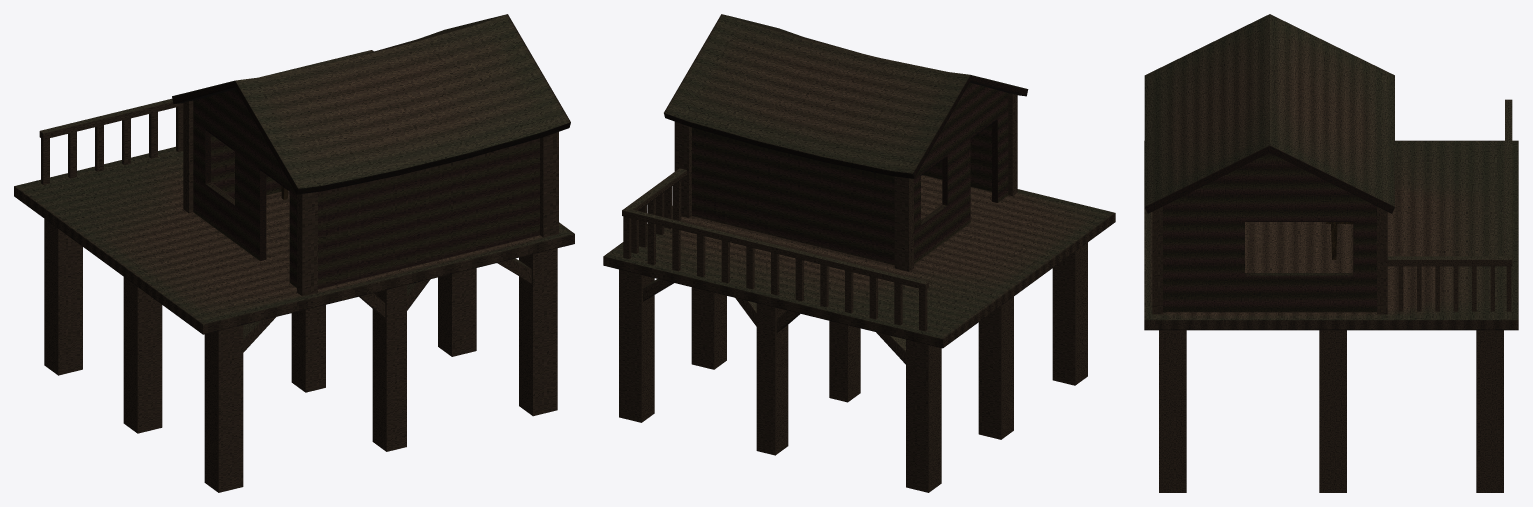
The model's file is cabin.glb.
3 renders of one model, left to right at view 1: azimuth 30°, elevation 25°; view 2: azimuth 150°, elevation 25°; view 3: azimuth 270°, elevation 25°, orthographic. The views are drawn at different scales.
Parts seen in each view (by area): view 1: Cabin; view 2: Cabin; view 3: Cabin.
Boxes of the visible parts, <box> form: Cabin: <box>14,14,574,492</box>; Cabin: <box>603,14,1115,492</box>; Cabin: <box>1144,14,1518,492</box>.
Size of what is drawn, in the model's own units: 10.97 by 9.97 by 9.66.
2 materials, 2 textured.
